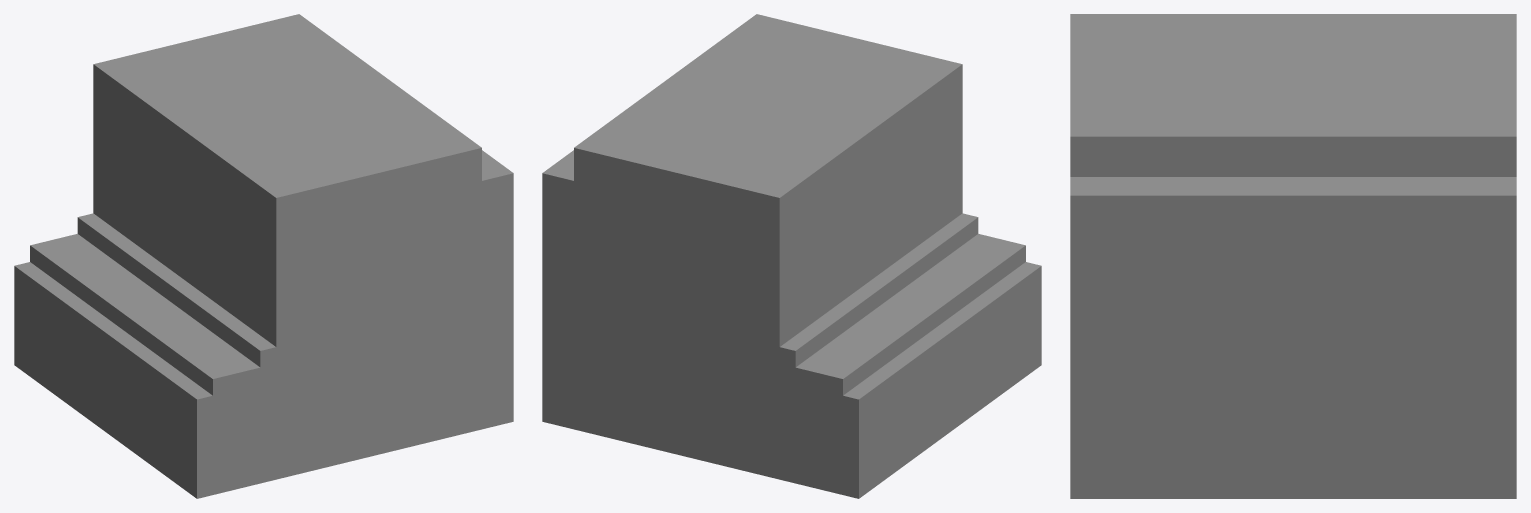
Rendered from piedra1.obj.
3 views of the same model, side by side, from view 1: azimuth 30°, elevation 25°; view 2: azimuth 150°, elevation 25°; view 3: azimuth 270°, elevation 25° (orthographic). The views are drawn at different scales.
Size of the model in its own units: 20 by 17 by 20.
1 material, 1 textured.
